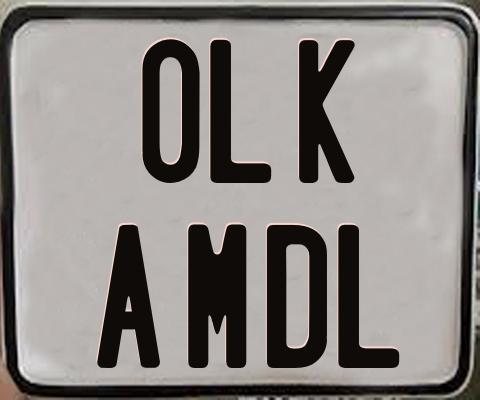0: (140, 39, 204, 186)
A: (97, 225, 162, 369)
D: (264, 224, 330, 373)
K: (297, 40, 353, 186)
L: (337, 222, 402, 371), (210, 40, 274, 185)
M: (187, 222, 251, 370)
